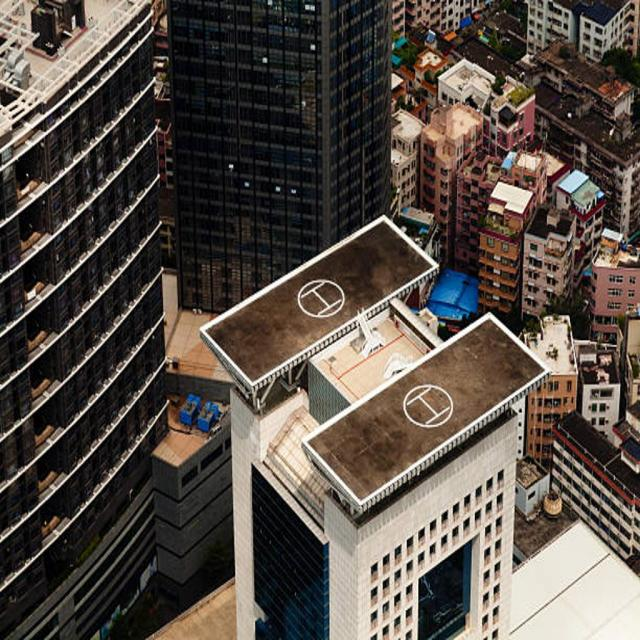helipad: (401, 382, 452, 426), (296, 278, 344, 316)
